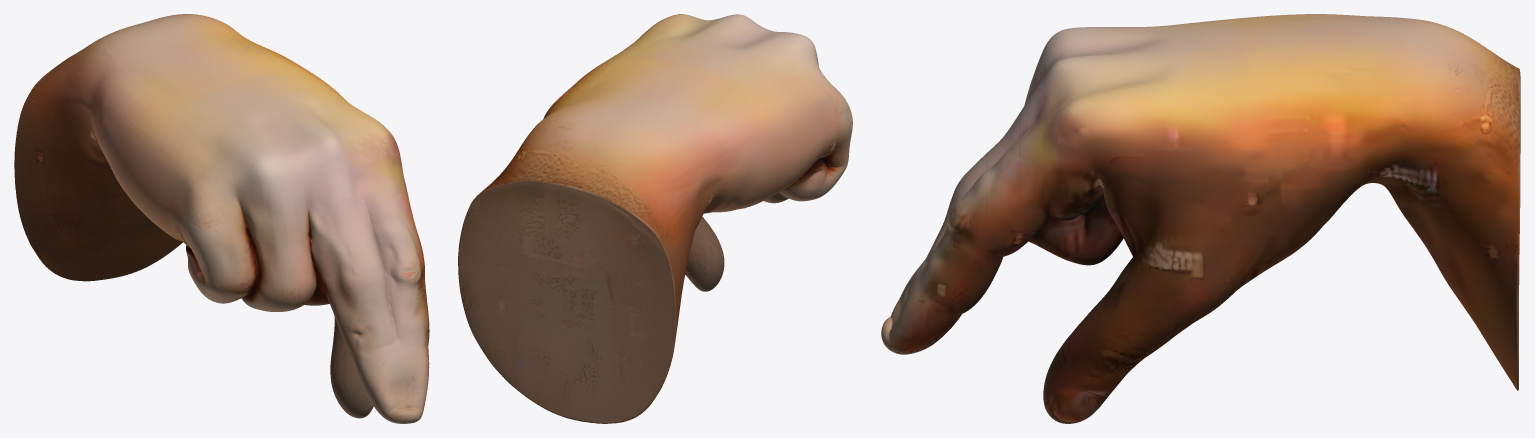
The model's file is letter_Q.glb.
3 renders of one model, left to right at view 1: azimuth 30°, elevation 25°; view 2: azimuth 150°, elevation 25°; view 3: azimuth 270°, elevation 25°, orthographic. The views are drawn at different scales.
Visible parts, largest first — view 1: tripo_node_465a747e-eead-4da0-bab4-eb876882acb1; view 2: tripo_node_465a747e-eead-4da0-bab4-eb876882acb1; view 3: tripo_node_465a747e-eead-4da0-bab4-eb876882acb1.
Part boxes in pixels (x1,y1,x2,y2): tripo_node_465a747e-eead-4da0-bab4-eb876882acb1: (14,14,429,423); tripo_node_465a747e-eead-4da0-bab4-eb876882acb1: (458,14,852,423); tripo_node_465a747e-eead-4da0-bab4-eb876882acb1: (881,14,1520,423).
Size of the model in its own units: 0.5092 by 0.6155 by 1.
Materials: 1 (1 with a texture image).
